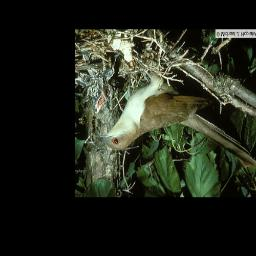Cuckoo: (95, 73, 256, 170)
